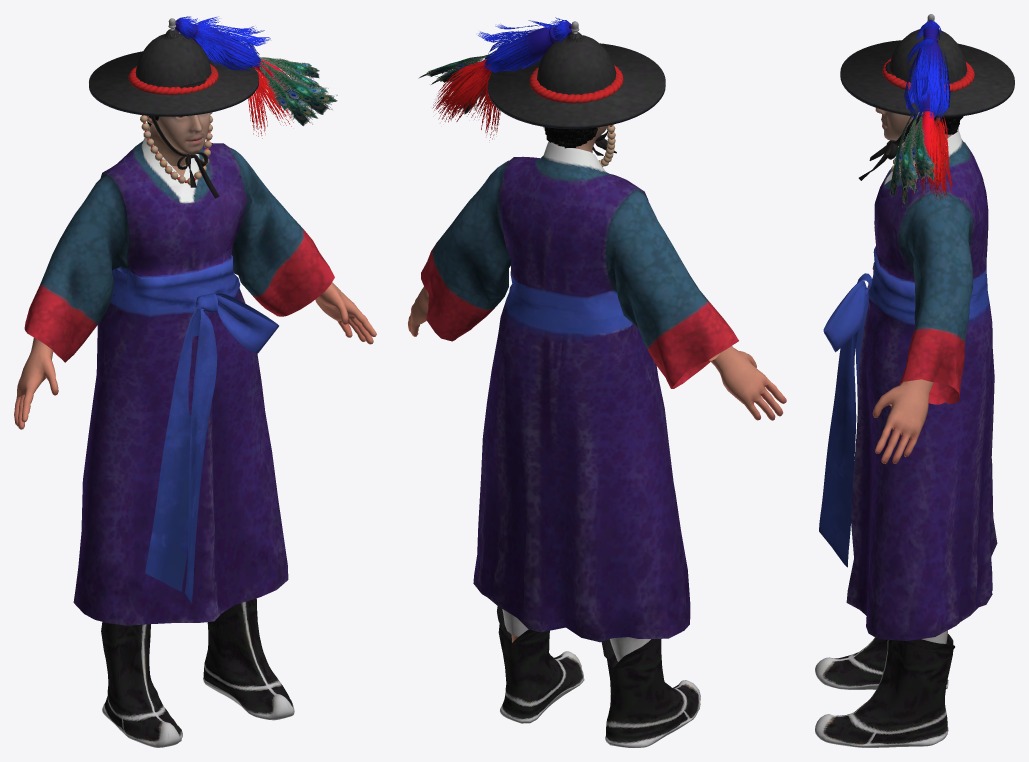
The model's file is gatekeeper.fbx.
3 renders of one model, left to right at view 1: azimuth 30°, elevation 25°; view 2: azimuth 150°, elevation 25°; view 3: azimuth 270°, elevation 25°, orthographic. The views are drawn at different scales.
Visible parts, largest first — view 1: NPC_GyeongbokgungGatekeeper_Mesh_0; view 2: NPC_GyeongbokgungGatekeeper_Mesh_0; view 3: NPC_GyeongbokgungGatekeeper_Mesh_0.
Part boxes in pixels (x1,y1,x2,y2): NPC_GyeongbokgungGatekeeper_Mesh_0: (14, 16, 376, 747); NPC_GyeongbokgungGatekeeper_Mesh_0: (408, 17, 786, 747); NPC_GyeongbokgungGatekeeper_Mesh_0: (815, 14, 1014, 747).
Bounding box in the file's own units: 99.92 × 183 × 47.53.
Materials: 4 (4 with a texture image).
